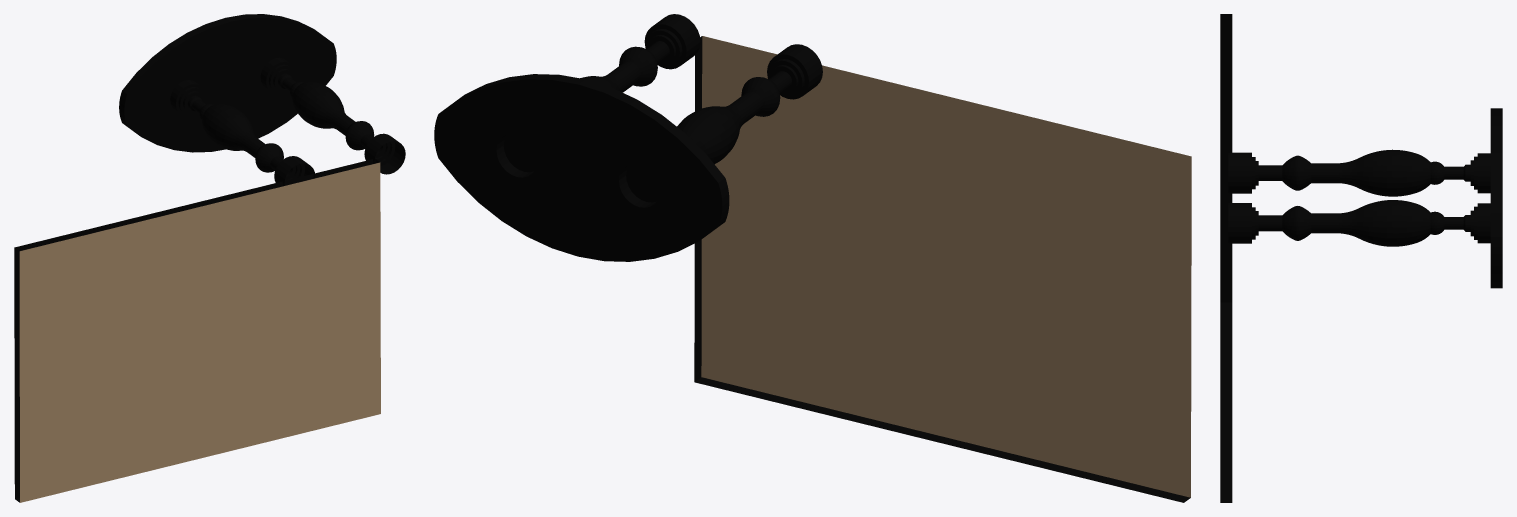
The model's file is table_5.obj.
3 views of the same model, side by side, from view 1: azimuth 30°, elevation 25°; view 2: azimuth 150°, elevation 25°; view 3: azimuth 270°, elevation 25° (orthographic). The views are drawn at different scales.
Parts seen in each view (by area): view 1: obj4782, obj1, obj4778; view 2: obj4782, obj918, obj4779, obj4783; view 3: obj4780, obj4779.
Boxes of the visible parts, box(x1,y1,x2,y2) form: obj4782: box(19, 162, 380, 502); obj1: box(124, 17, 336, 152); obj4778: box(14, 159, 375, 498); obj4782: box(701, 36, 1191, 497); obj918: box(435, 79, 722, 261); obj4779: box(695, 377, 1190, 502); obj4783: box(694, 36, 702, 381); obj4780: box(1220, 14, 1232, 302); obj4779: box(1220, 302, 1232, 502).
Size of the model in its own units: 56.98 by 39.38 by 27.94.
